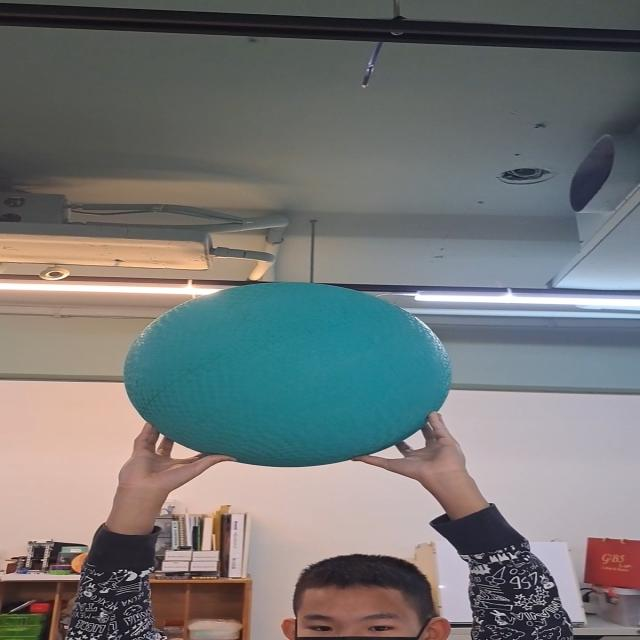ALGAE: (127, 281, 453, 467)
